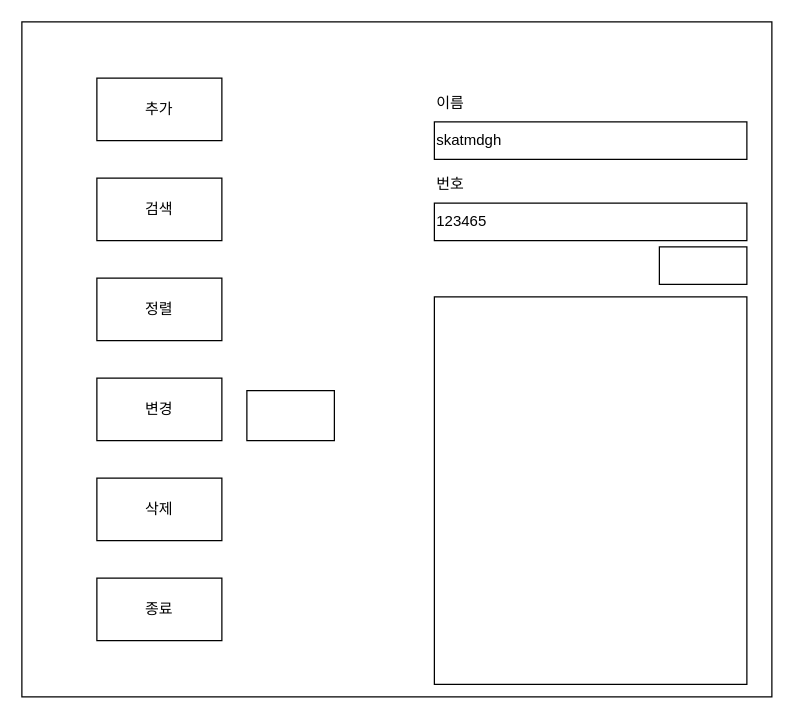
This 794x719 diagram has some shape labels left out. Here are the shapes that lost their labels. From the top down, the box of each, then its label:
(658, 246, 747, 284): 입력
(246, 389, 334, 441): 확인
(433, 296, 747, 684): 이름 : 남승호 번호 : 010 6306 6529
